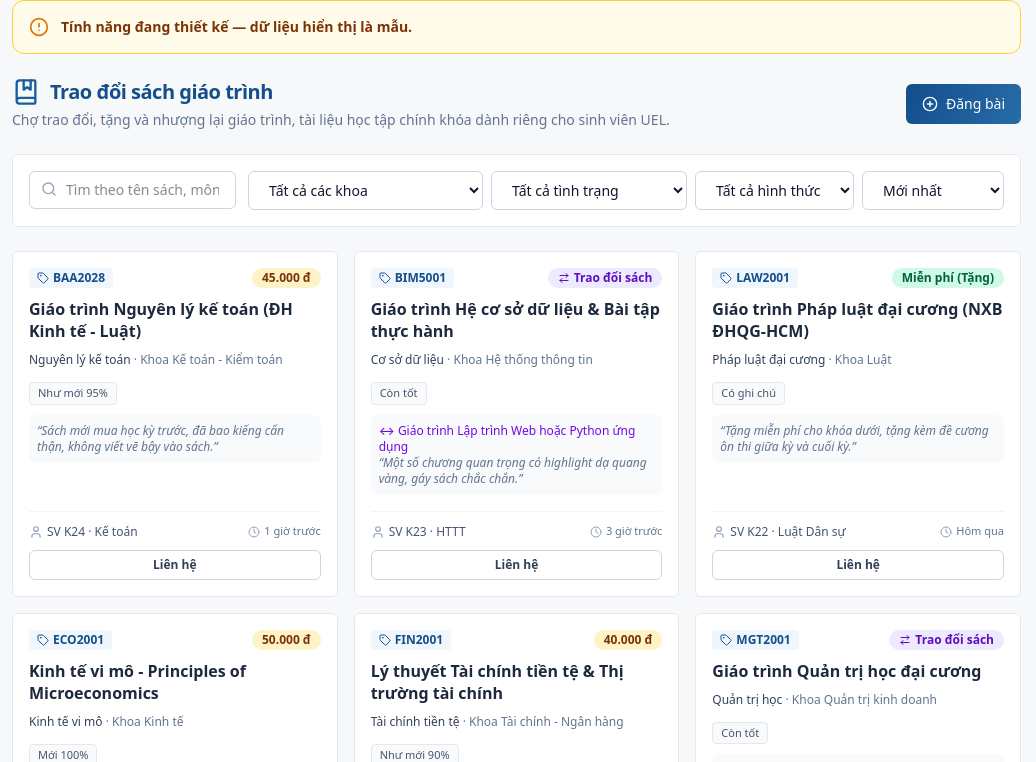
W9: Trang Trao đổi sách (/books) › lọc theo từ khóa tìm kiếm (mã môn hoặc tên sách)
Note: Search for BIM5001
Type "BIM5001" into the field named "Tìm kiếm giáo trình" at (132, 190), box 29,171 -> 236,209
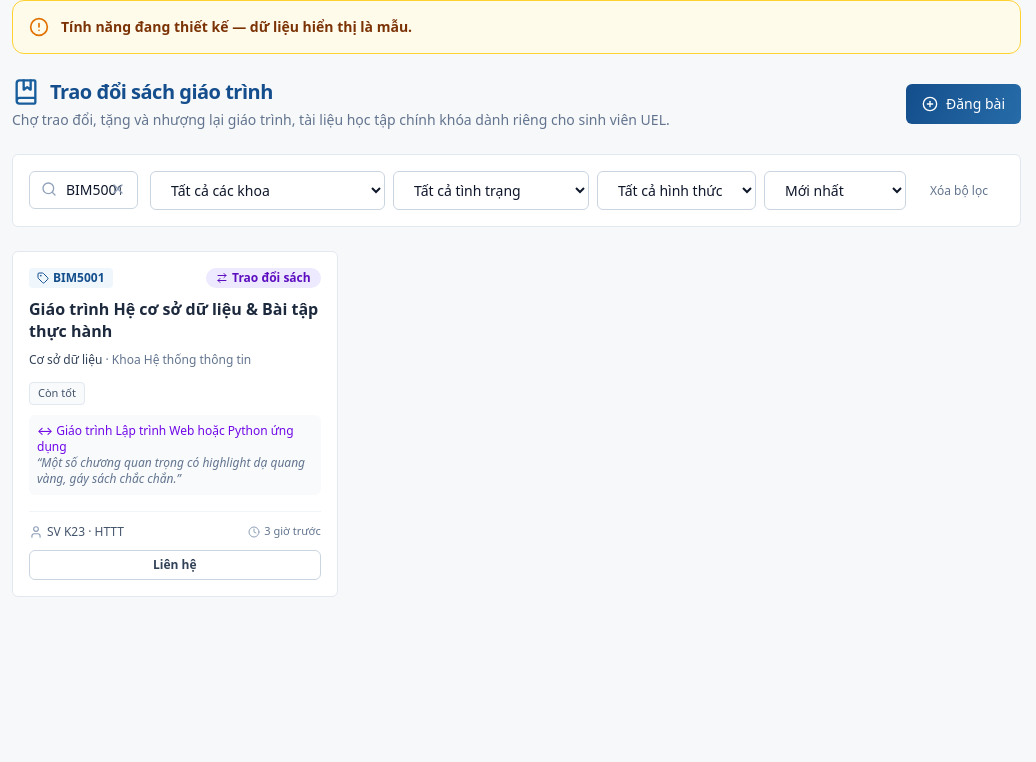
Expected: the heading "Giáo trình Hệ cơ sở dữ liệu & Bài tập thực hành" is shown, 29,298 -> 321,342
Now the heading "Giáo trình Nguyên lý kế toán (ĐH Kinh tế - Luật)" is gone
Note: Clear search
Clear the field named "Tìm kiếm giáo trình" at (84, 190), box 29,171 -> 138,209
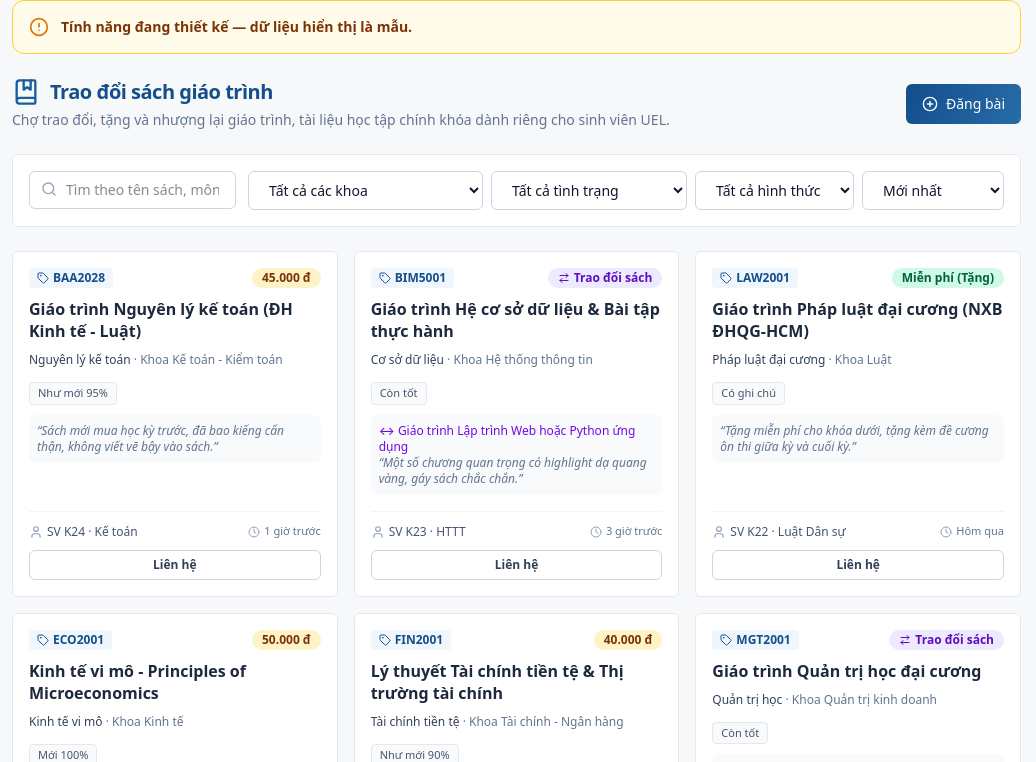
Now the heading "Giáo trình Nguyên lý kế toán (ĐH Kinh tế - Luật)" is shown, box 29,298 -> 321,342
